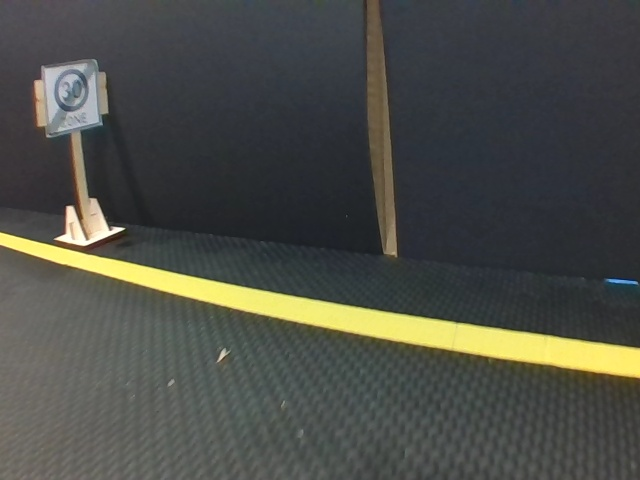no30: (44, 64, 101, 128)
